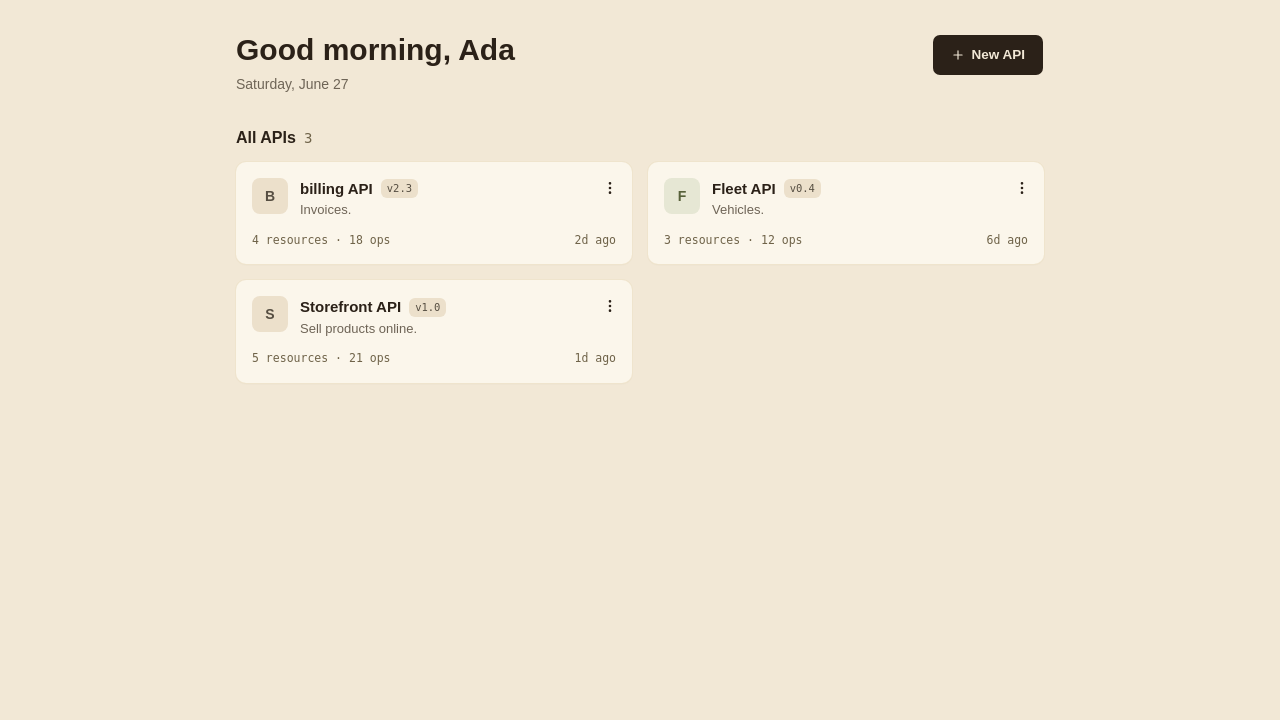
the New API button opens the create dialog
Click the button "New API". click: (988, 55)
box: [932,34,1044,76]
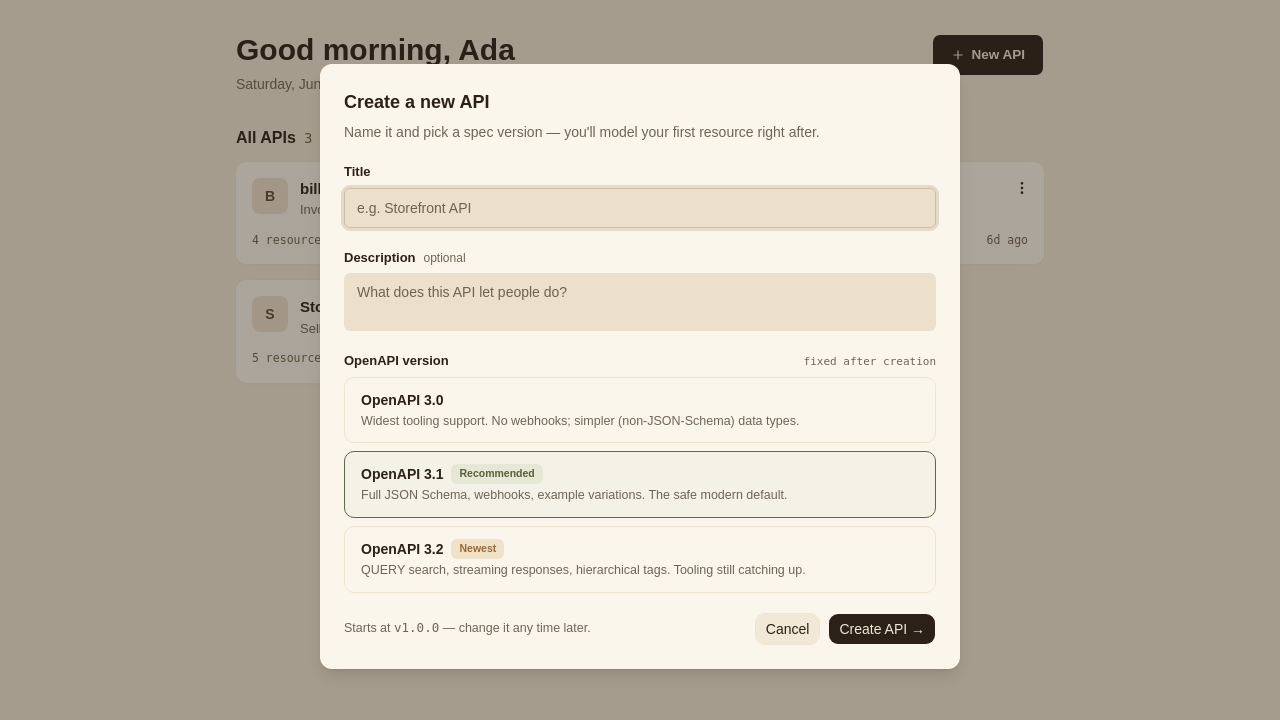
Expected: the dialog is shown, [320,64,960,669]
Expected: the heading "Create a new API" is shown, [344,92,489,112]
